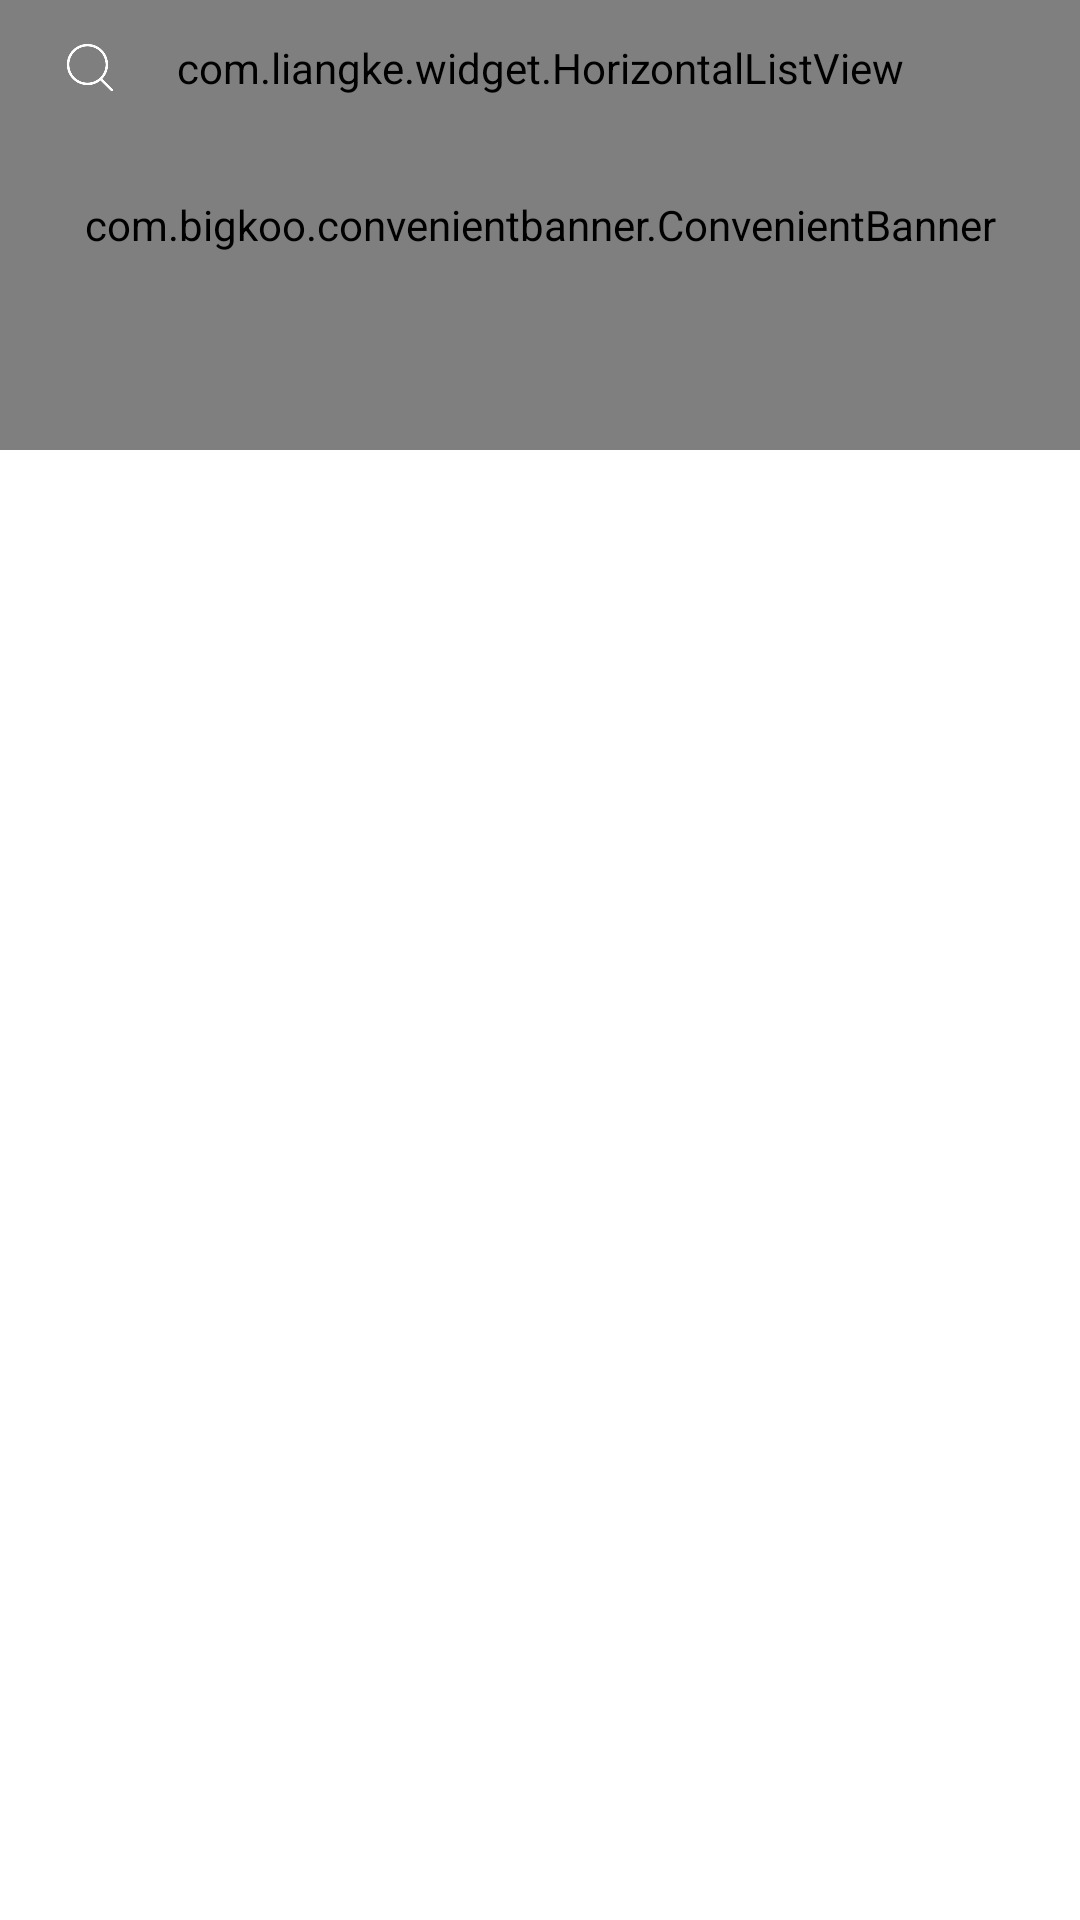

Icons on this 1080 × 1920 Android screen, each with its box as [x1=x1, y1=y1, x2=x2, y2=y2]:
search: [x1=67, y1=44, x2=113, y2=91]
